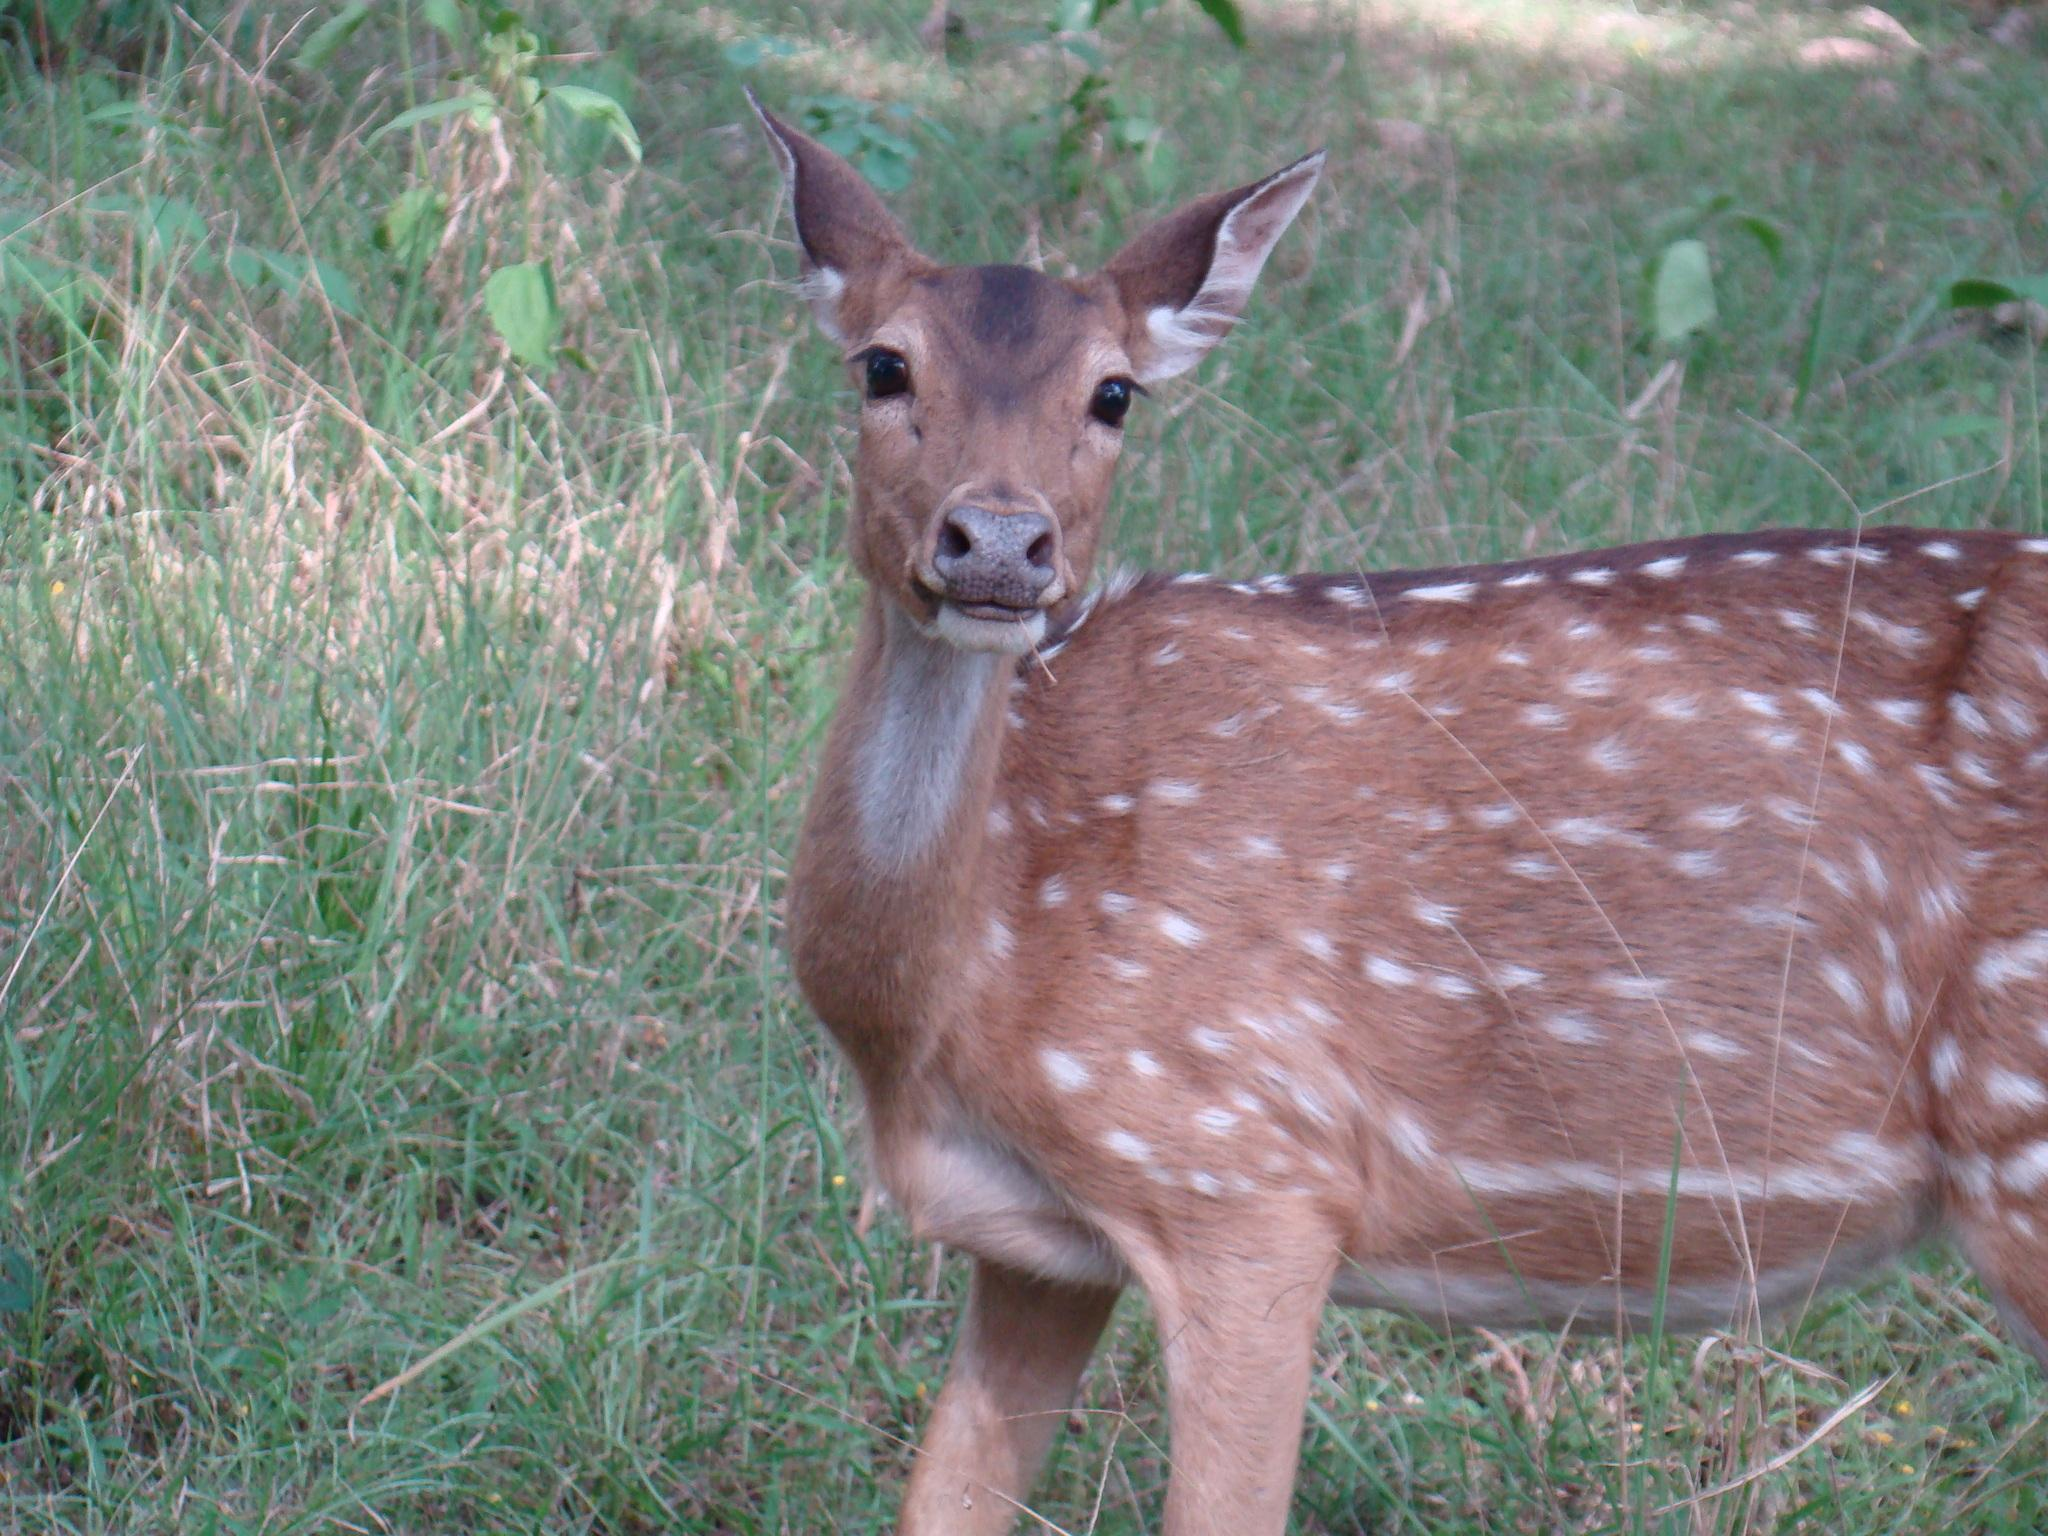Deer: (755, 102, 2046, 1534)
